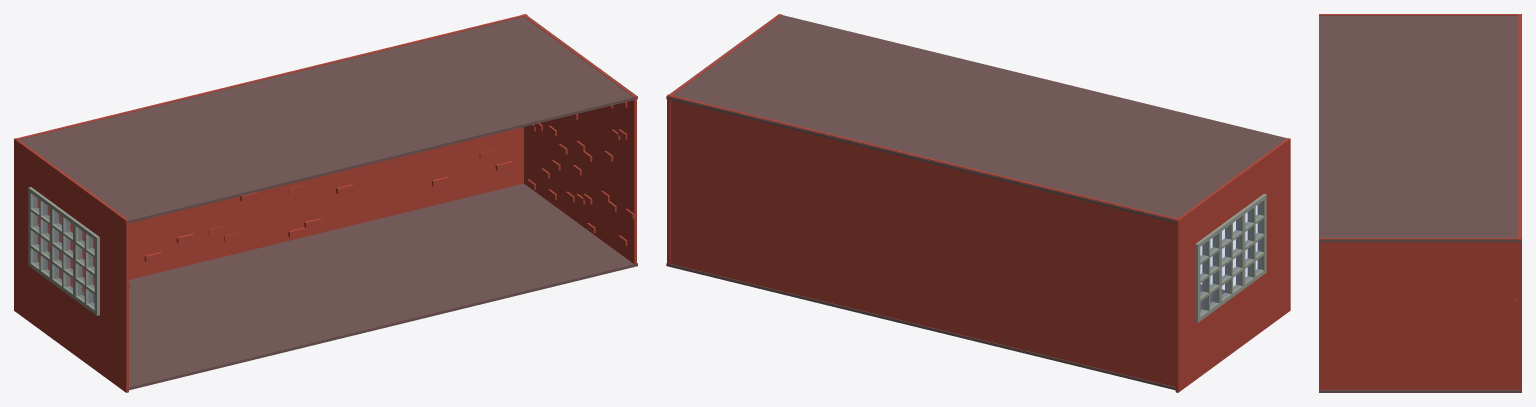
Rendered from WORKshop.fbx.
3 renders of one model, left to right at view 1: azimuth 30°, elevation 25°; view 2: azimuth 150°, elevation 25°; view 3: azimuth 270°, elevation 25°, orthographic. The views are drawn at different scales.
Parts seen in each view (by area): view 1: lagi, põrand, tagasein, paremsein, vasaksein, aken, klaas; view 2: tagasein, lagi, paremsein, aken, klaas, põrand, vasaksein; view 3: lagi, vasaksein, tagasein, põrand, paremsein.
Boxes of the visible parts, <box> form: lagi: <box>19,15,637,223</box>; põrand: <box>82,183,637,390</box>; tagasein: <box>16,14,527,291</box>; paremsein: <box>14,138,129,392</box>; vasaksein: <box>522,14,636,264</box>; aken: <box>28,187,99,315</box>; klaas: <box>33,196,94,306</box>; tagasein: <box>667,94,1178,386</box>; lagi: <box>666,14,1286,223</box>; paremsein: <box>1174,138,1290,392</box>; aken: <box>1195,194,1266,322</box>; klaas: <box>1200,202,1261,313</box>; põrand: <box>666,263,1224,390</box>; vasaksein: <box>667,14,781,266</box>; lagi: <box>1319,15,1521,242</box>; vasaksein: <box>1319,238,1521,389</box>; tagasein: <box>1515,14,1520,390</box>; põrand: <box>1319,390,1521,392</box>; paremsein: <box>1319,14,1521,15</box>.
Size of the model in its own units: 2642 by 846 by 999.
